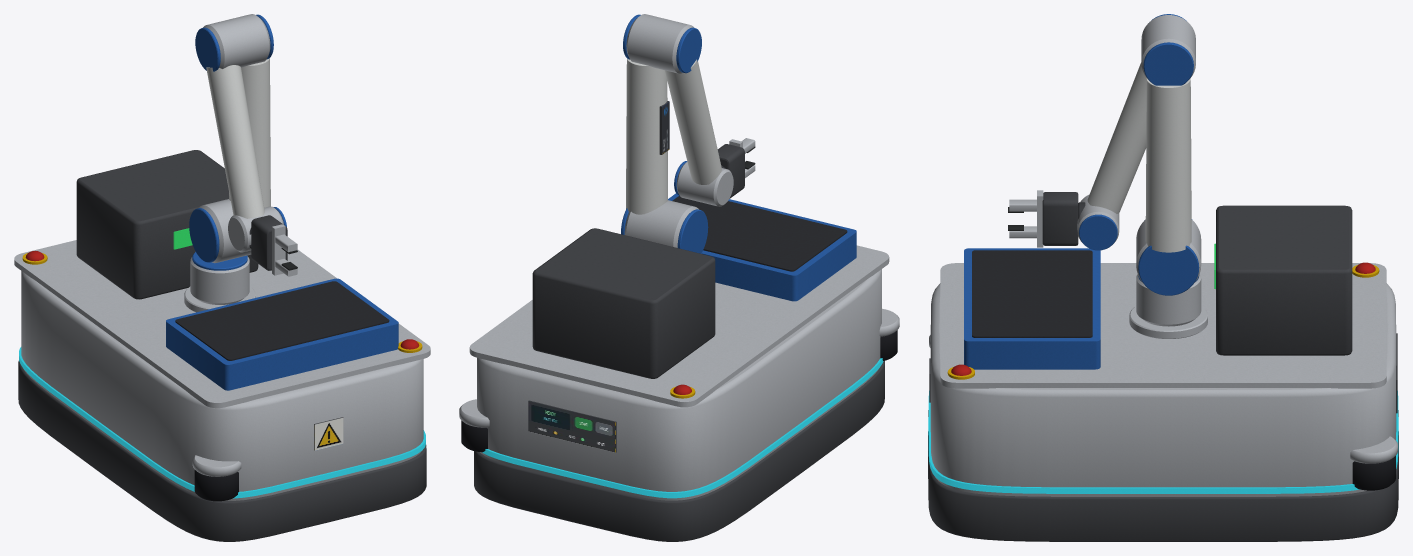
The model's file is amr-rigged.glb.
3 renders of one model, left to right at view 1: azimuth 30°, elevation 25°; view 2: azimuth 150°, elevation 25°; view 3: azimuth 270°, elevation 25°, orthographic. The views are drawn at different scales.
Visible parts, largest first — view 1: Base body, Controller box and parts tray, Base skirt, Top plate, ArmPart_Elbow (×3), ArmPart_Shoulder (×3), ArmPart_Yaw (×3), Status light band, ArmPart_Wrist (×2), Laser scanners, Control panel, Emergency stops; view 2: Base body, Controller box and parts tray, Base skirt, Top plate, ArmPart_Shoulder (×3), ArmPart_Elbow (×3), Status light band, Control panel, ArmPart_Wrist (×2), Laser scanners; view 3: Base body, Controller box and parts tray, Top plate, Base skirt, ArmPart_Shoulder (×3), ArmPart_Elbow (×3), ArmPart_Wrist (×3), ArmPart_Yaw (×2), Status light band, Laser scanners, Emergency stops.
Part boxes in pixels (x1,y1,x2,y2): Base body: [21, 271, 423, 500]; Controller box and parts tray: [76, 150, 398, 390]; Base skirt: [18, 361, 426, 541]; Top plate: [14, 240, 430, 408]; ArmPart_Elbow (×3): [195, 14, 273, 218]; ArmPart_Shoulder (×3): [189, 58, 270, 263]; ArmPart_Yaw (×3): [184, 252, 255, 312]; Status light band: [19, 347, 425, 498]; ArmPart_Wrist (×2): [228, 206, 287, 270]; Laser scanners: [192, 455, 241, 501]; Control panel: [314, 417, 343, 450]; Emergency stops: [22, 251, 422, 352]; Base body: [477, 269, 881, 500]; Controller box and parts tray: [532, 193, 856, 378]; Base skirt: [474, 360, 884, 541]; Top plate: [469, 245, 889, 407]; ArmPart_Shoulder (×3): [621, 58, 708, 253]; ArmPart_Elbow (×3): [623, 14, 721, 184]; Status light band: [482, 358, 883, 498]; Control panel: [528, 400, 616, 452]; ArmPart_Wrist (×2): [676, 144, 744, 206]; Laser scanners: [459, 308, 899, 452]; Base body: [930, 283, 1396, 496]; Controller box and parts tray: [964, 205, 1352, 369]; Top plate: [940, 263, 1386, 388]; Base skirt: [928, 410, 1398, 541]; ArmPart_Shoulder (×3): [1136, 78, 1201, 295]; ArmPart_Elbow (×3): [1087, 14, 1195, 213]; ArmPart_Wrist (×3): [1042, 192, 1119, 250]; ArmPart_Yaw (×2): [1129, 274, 1207, 338]; Status light band: [928, 391, 1398, 493]; Laser scanners: [929, 335, 1397, 490]; Emergency stops: [947, 262, 1379, 379].
Size of the model in its own units: 0.5874 by 0.99 by 0.8971.
Materials: 16 (16 with a texture image).
